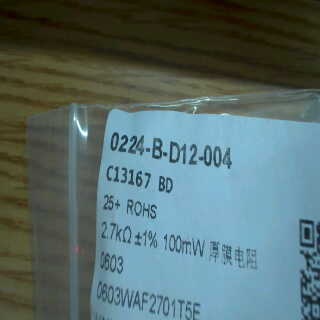2.7kR: (99, 220, 133, 243)
